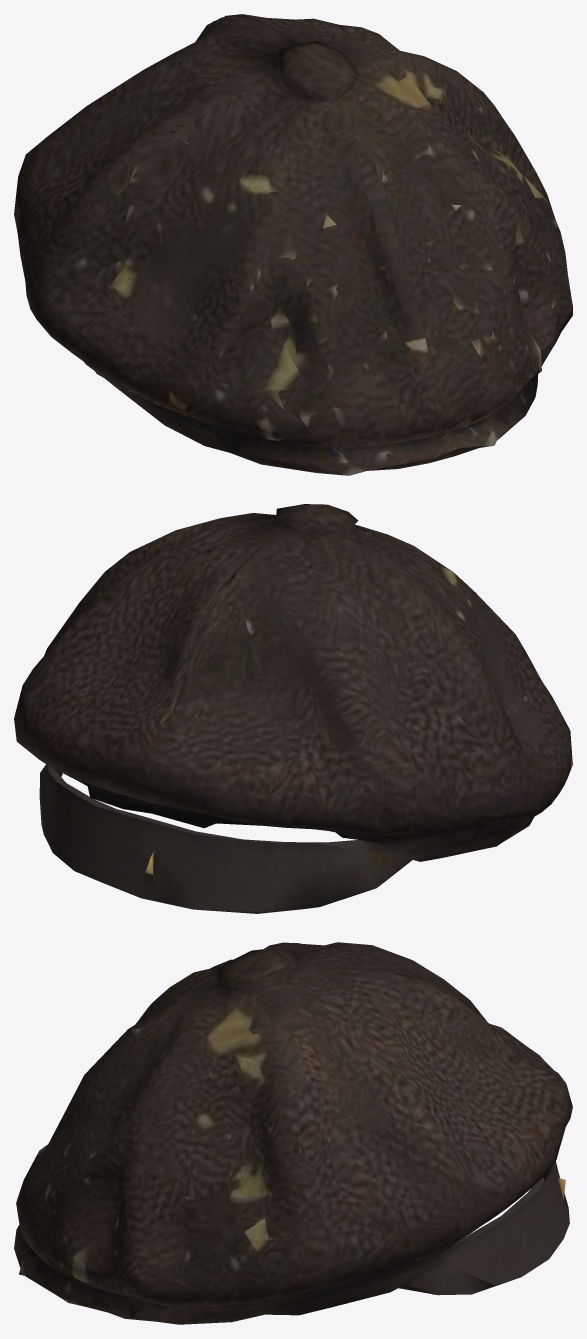
Rendered from hat-flatcap.glb.
3 views of the same model, one above another, from view 1: azimuth 30°, elevation 25°; view 2: azimuth 150°, elevation 25°; view 3: azimuth 270°, elevation 25° (orthographic). The views are drawn at different scales.
Visible parts, largest first — view 1: hat-flatcap; view 2: hat-flatcap; view 3: hat-flatcap.
Boxes of the visible parts, x1,y1,x2,y2 form: hat-flatcap: (14,14,572,475); hat-flatcap: (14,504,572,913); hat-flatcap: (14,942,572,1324).
Bounding box in the file's own units: 0.49 × 0.3 × 0.497.
1 material, 1 textured.
